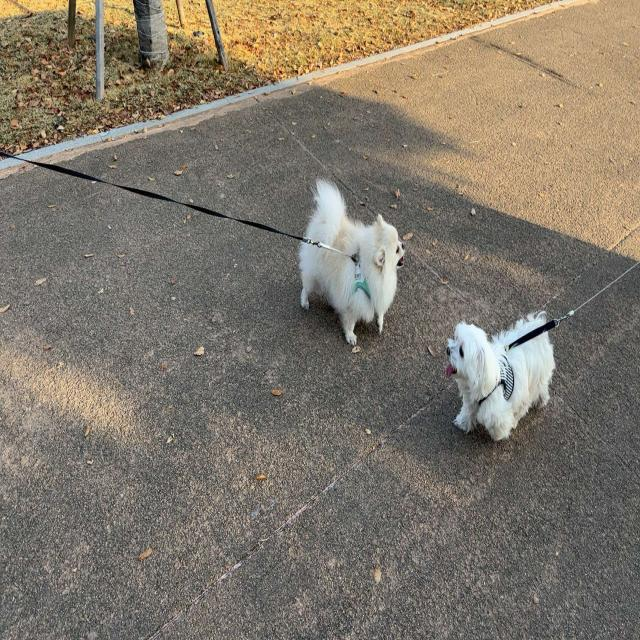Dog: (298, 176, 405, 346), (445, 310, 556, 442)
